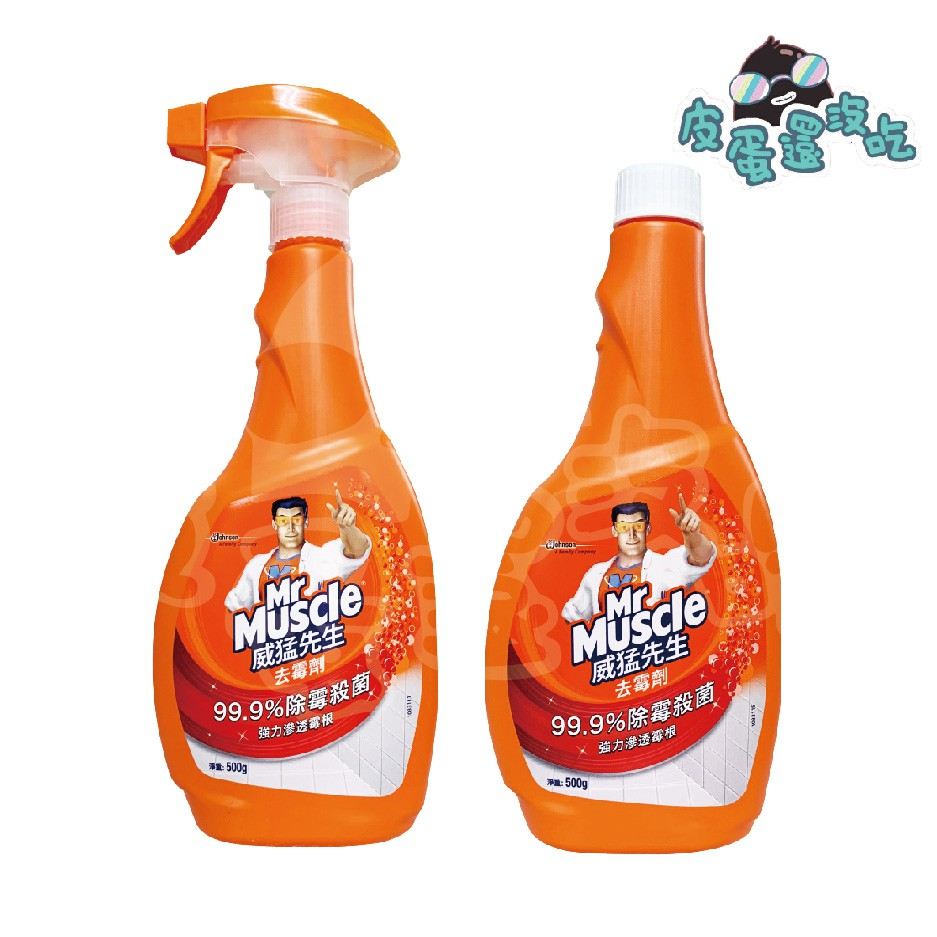cleaner: (147, 76, 443, 850), (480, 158, 785, 853)
